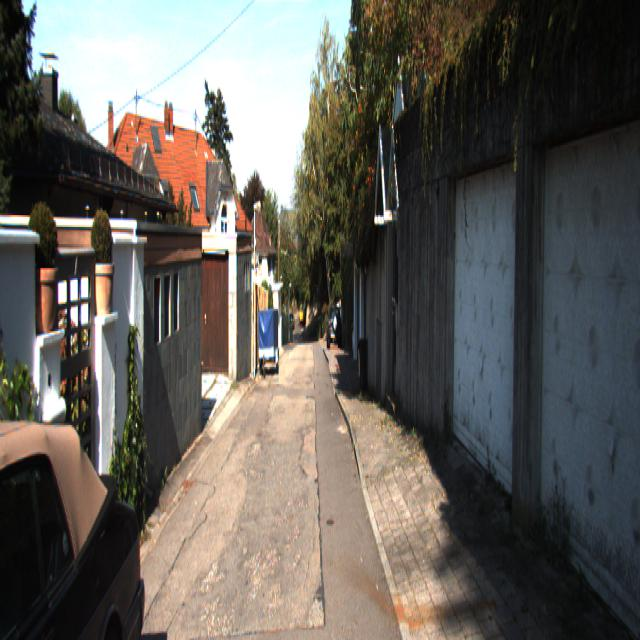Car: (0, 379, 154, 638), (258, 308, 278, 380), (325, 306, 342, 351)
